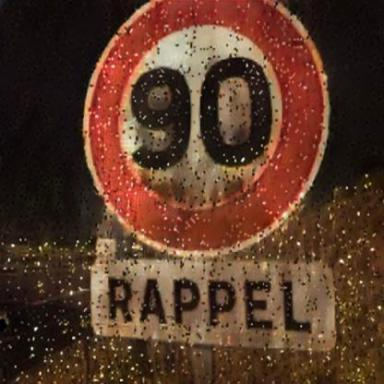Speed_limit_90: (91, 3, 323, 243)
